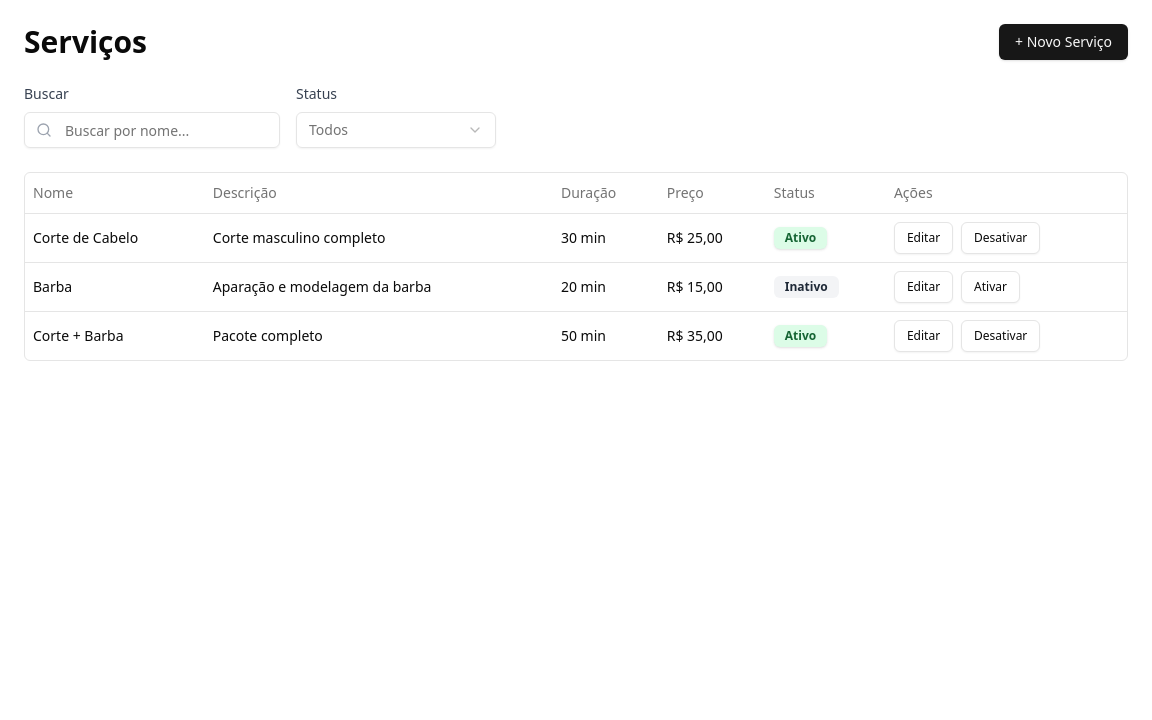
Test: ServicesListPage Integration › opens create service modal
Check: the text "Corte de Cabelo" is shown, box [25, 213, 205, 262]
Note: Click create button
Click the button "+ Novo Serviço" at (1064, 42), box [999, 24, 1128, 60]
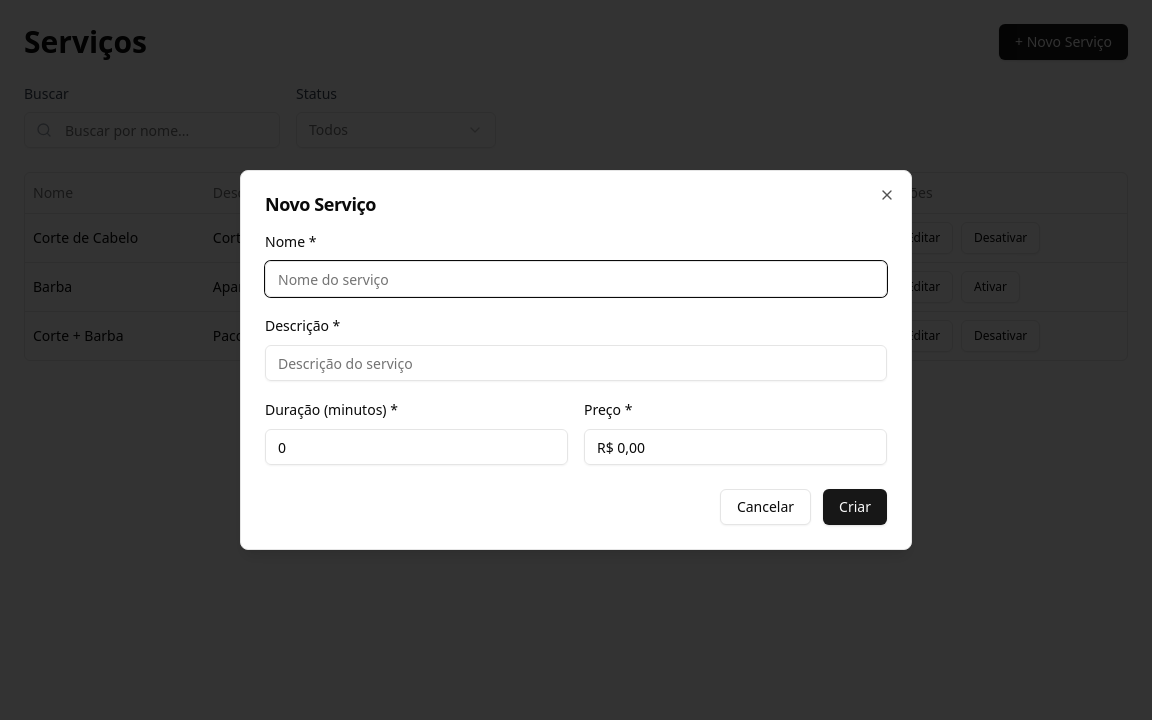
Check: the heading "Novo Serviço" is shown, box [265, 192, 376, 216]
